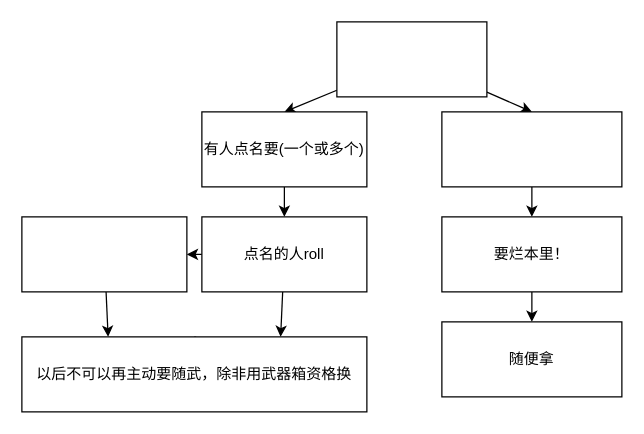
Some shapes in this 644 by 434 pixel diagram are drawn without their labels. The centre of each missing label's shape, as x and y in pixels:
优先给未毕业主职: (x=104, y=254)
没人主动的要: (x=531, y=149)
随武: (x=411, y=59)
